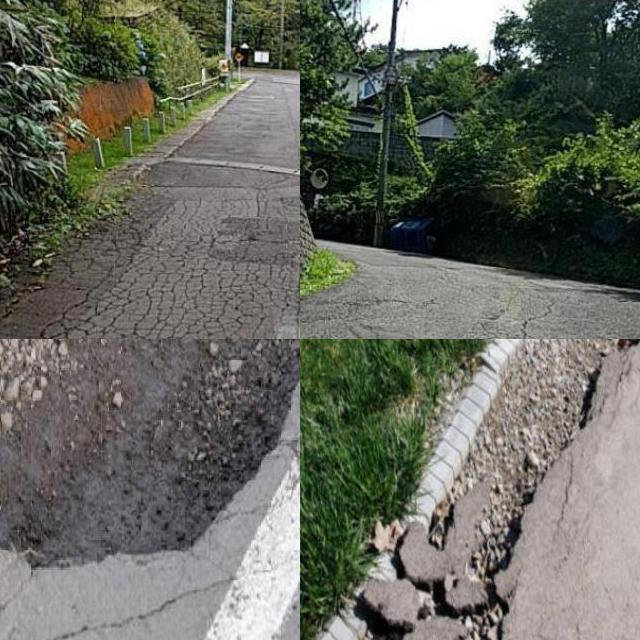Pinggir: (300, 339, 640, 640), (0, 339, 300, 570)
Retak Buaya: (27, 215, 300, 339)
